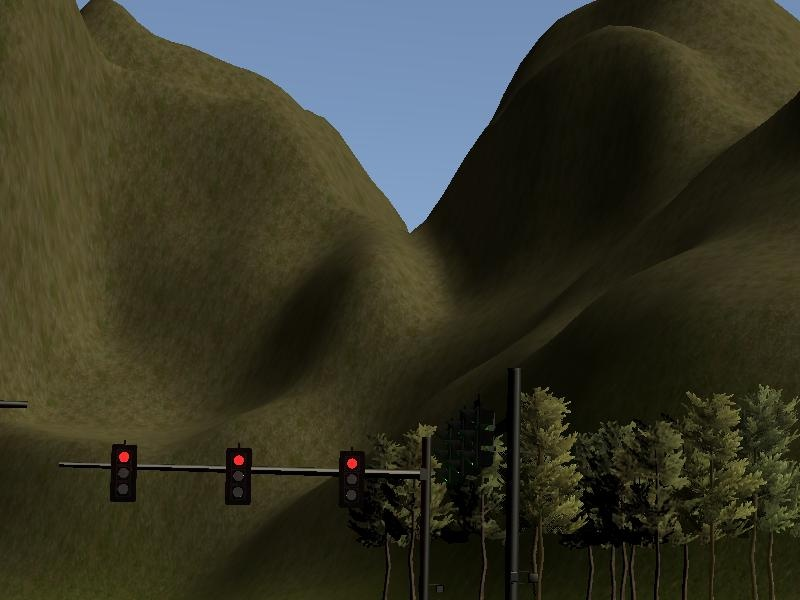red: (330, 441, 371, 515), (216, 438, 257, 509), (106, 435, 143, 509)
